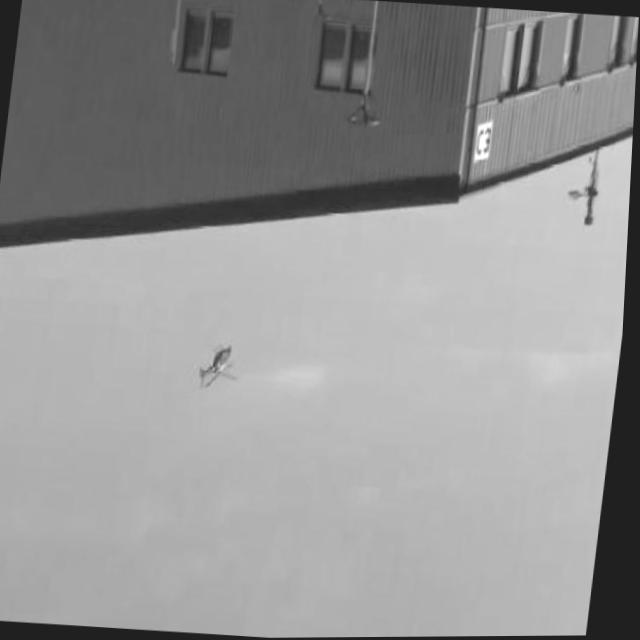helikopter: (193, 332, 253, 399)
